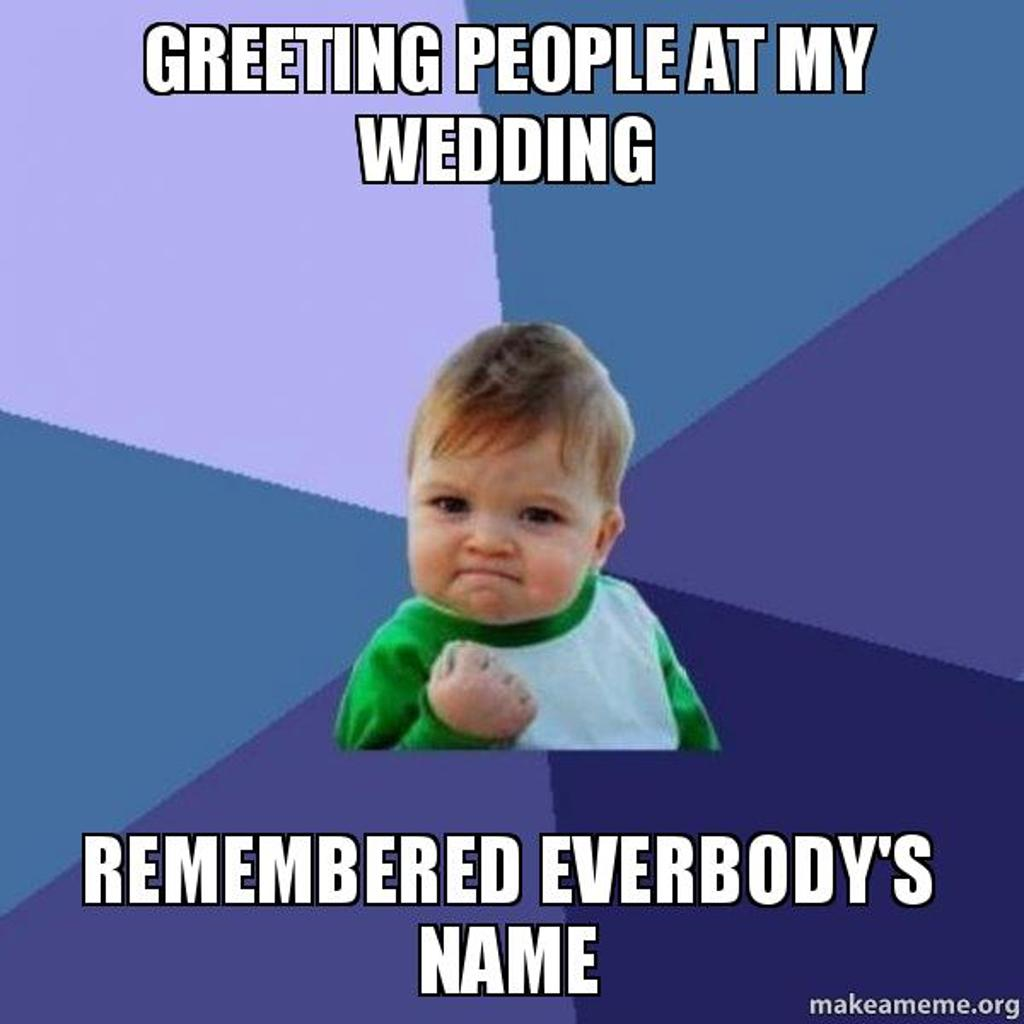face: (412, 398, 600, 618)
